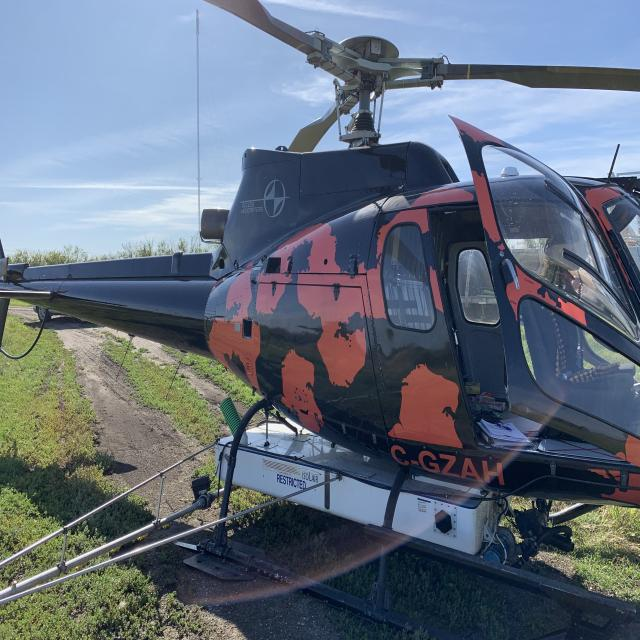helicopter: (1, 8, 640, 550)
